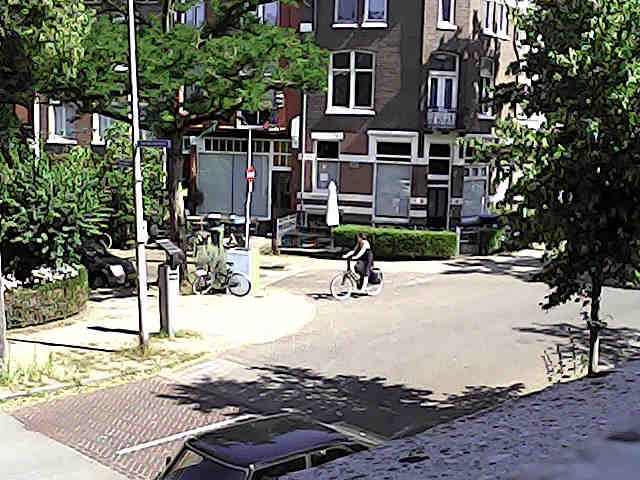male: (192, 227, 250, 296), (330, 233, 383, 300), (343, 232, 373, 292), (207, 226, 226, 277)
